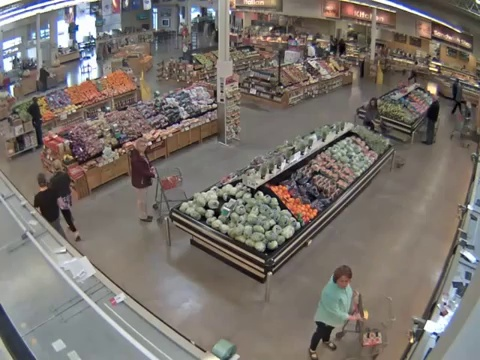face: (339, 273, 350, 288), (136, 142, 146, 151), (370, 100, 377, 107)
